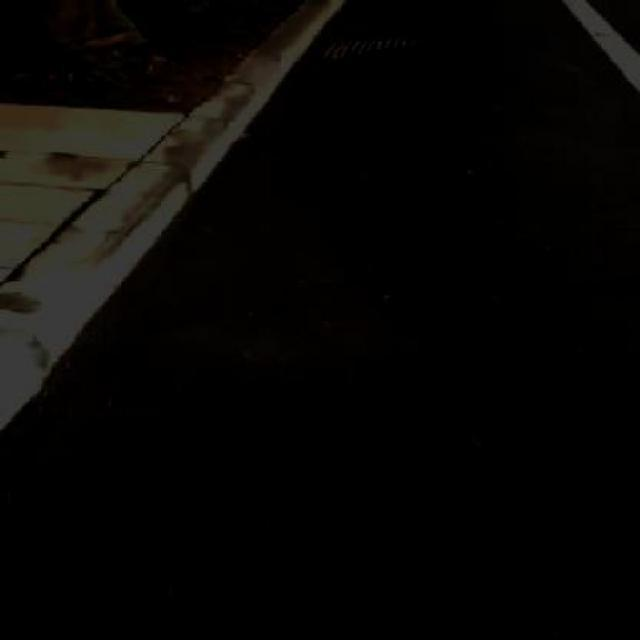Manhole: (324, 32, 416, 59)
